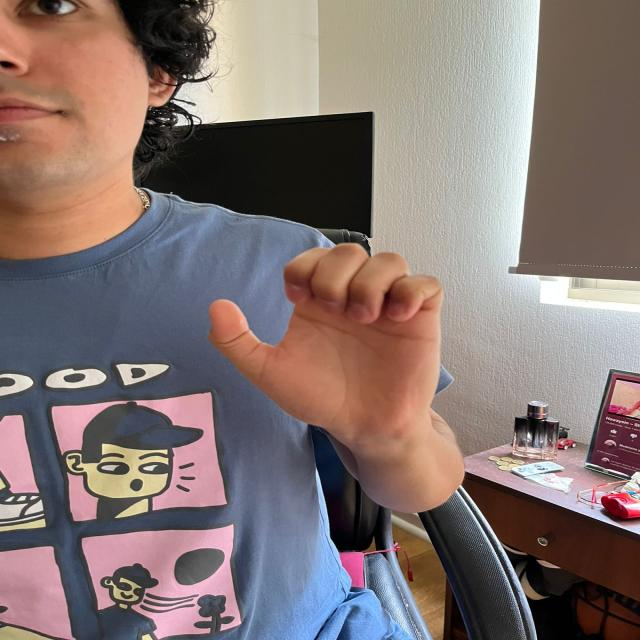E: (198, 230, 446, 437)
